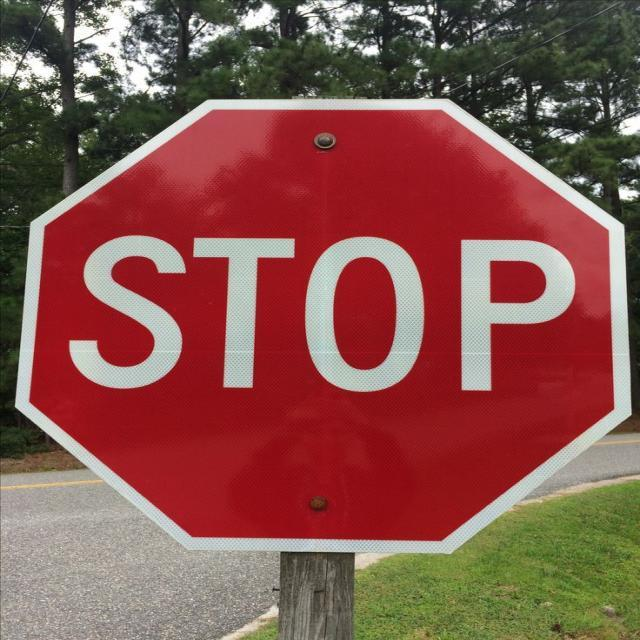stop: (13, 96, 632, 555)
